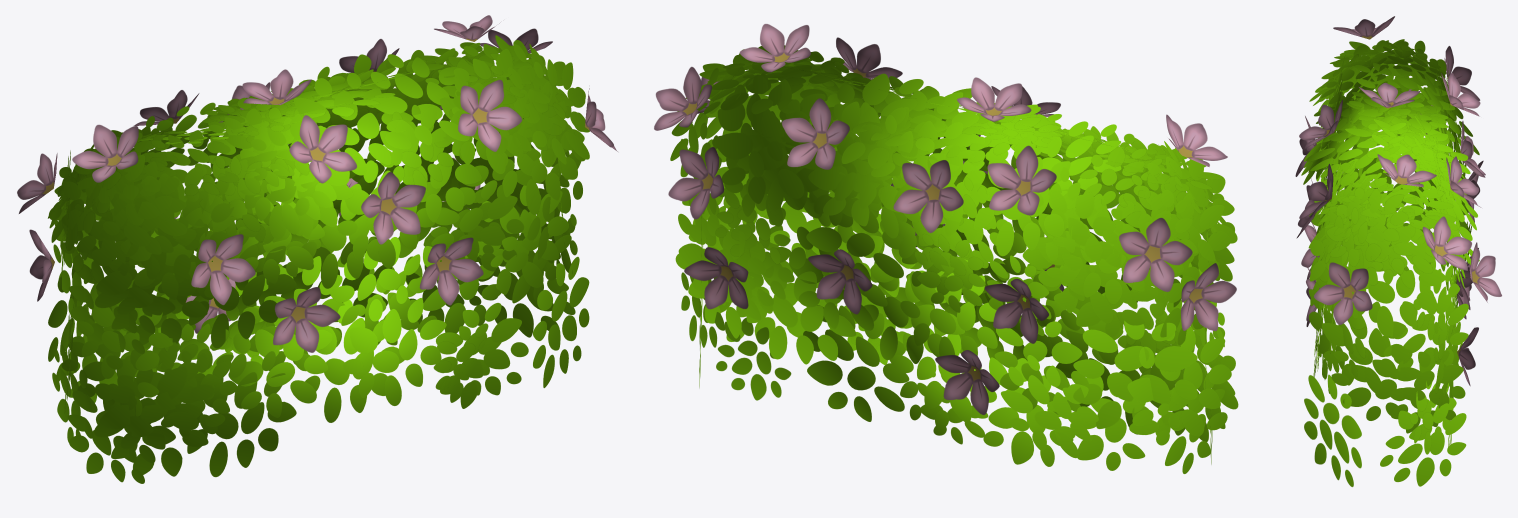
Rendered from Bush_Large_Flowers.gltf.
The picture shows the model from 3 angles, left to right: view 1: azimuth 30°, elevation 25°; view 2: azimuth 150°, elevation 25°; view 3: azimuth 270°, elevation 25°; orthographic projection. The views are drawn at different scales.
Visible parts, largest first — view 1: Bush_Large_Flowers; view 2: Bush_Large_Flowers; view 3: Bush_Large_Flowers.
Part boxes in pixels (x1,y1,x2,y2): Bush_Large_Flowers: (17,15,617,483); Bush_Large_Flowers: (654,24,1238,473); Bush_Large_Flowers: (1295,16,1501,486).
Bounding box in the file's own units: 1.93 × 1.26 × 0.7617.
2 materials, 2 textured.
